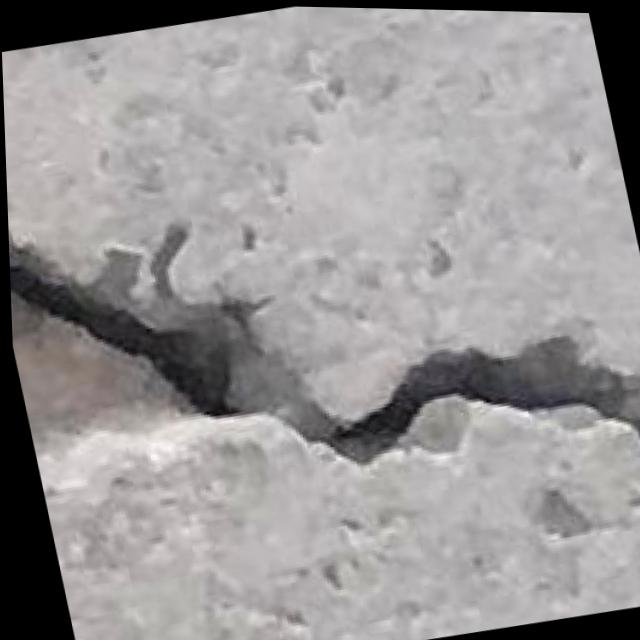Crack: (4, 127, 640, 584)
